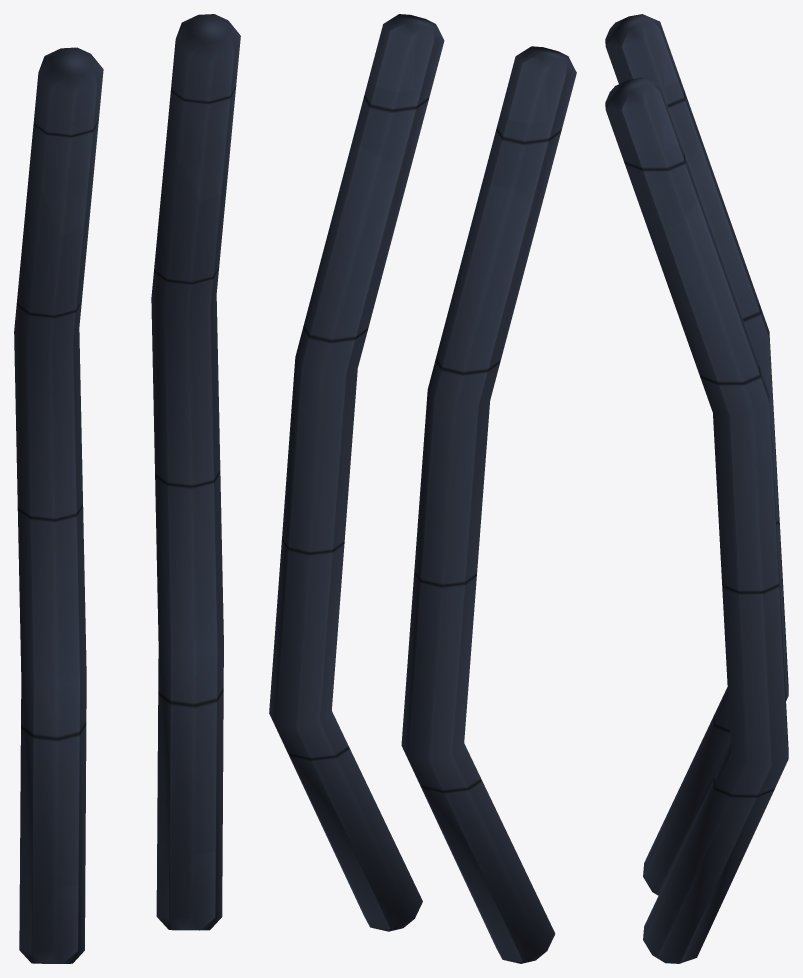
Rendered from Remache_BrazoIzq_Negro.fbx.
The picture shows the model from 3 angles, left to right: view 1: azimuth 30°, elevation 25°; view 2: azimuth 150°, elevation 25°; view 3: azimuth 270°, elevation 25°; orthographic projection. The views are drawn at different scales.
Parts seen in each view (by area): view 1: Remache_BrazoIzq_Negro; view 2: Remache_BrazoIzq_Negro; view 3: Remache_BrazoIzq_Negro.
Part boxes in pixels (x1,y1,x2,y2): Remache_BrazoIzq_Negro: (14, 14, 240, 963); Remache_BrazoIzq_Negro: (269, 14, 576, 963); Remache_BrazoIzq_Negro: (605, 14, 788, 963).
Bounding box in the file's own units: 0.5011 × 1.85 × 0.3497.
